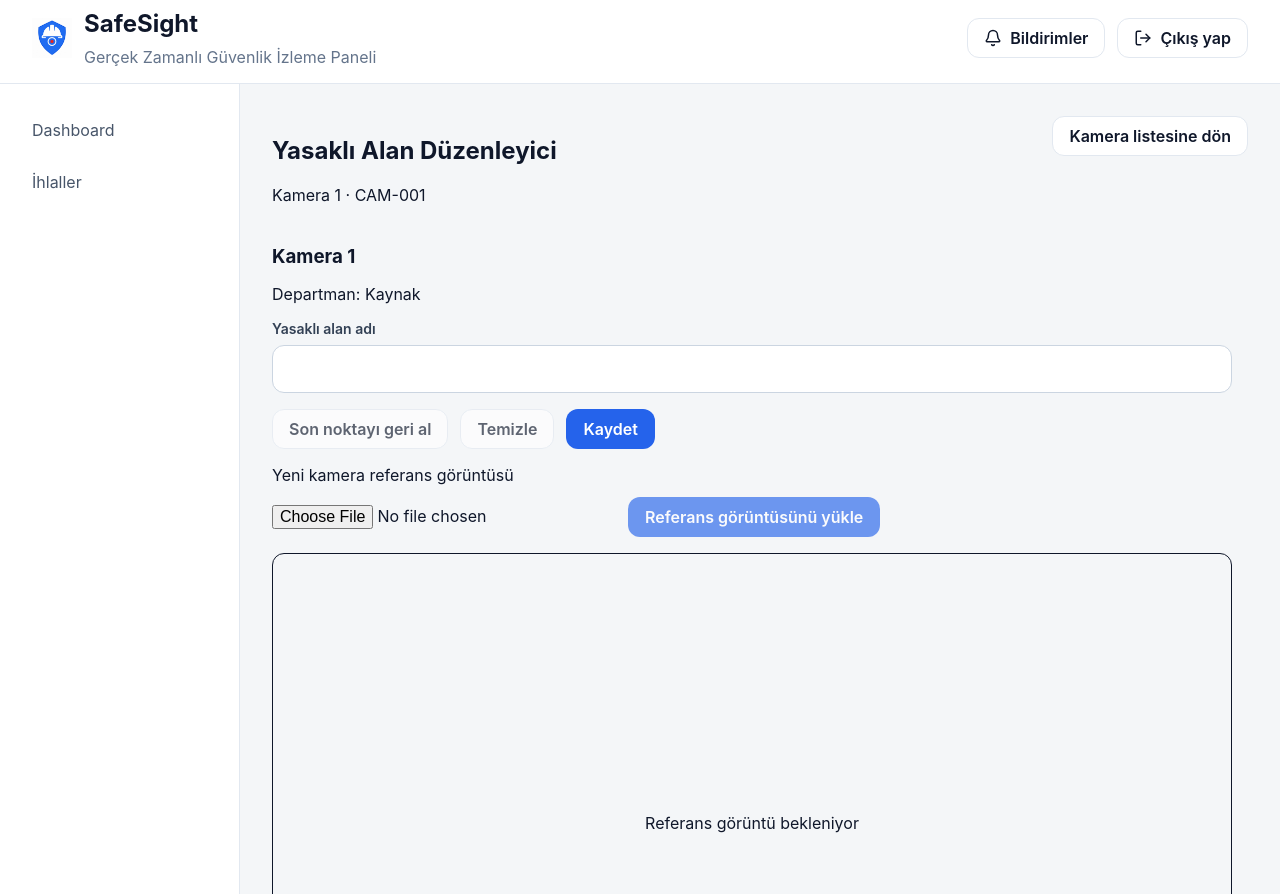
RestrictedZoneEditorPage › requires at least three polygon points before saving
Type "Kaynak hattı" into the field labelled "Yasaklı alan adı" at (752, 369), box [272, 345, 1232, 393]
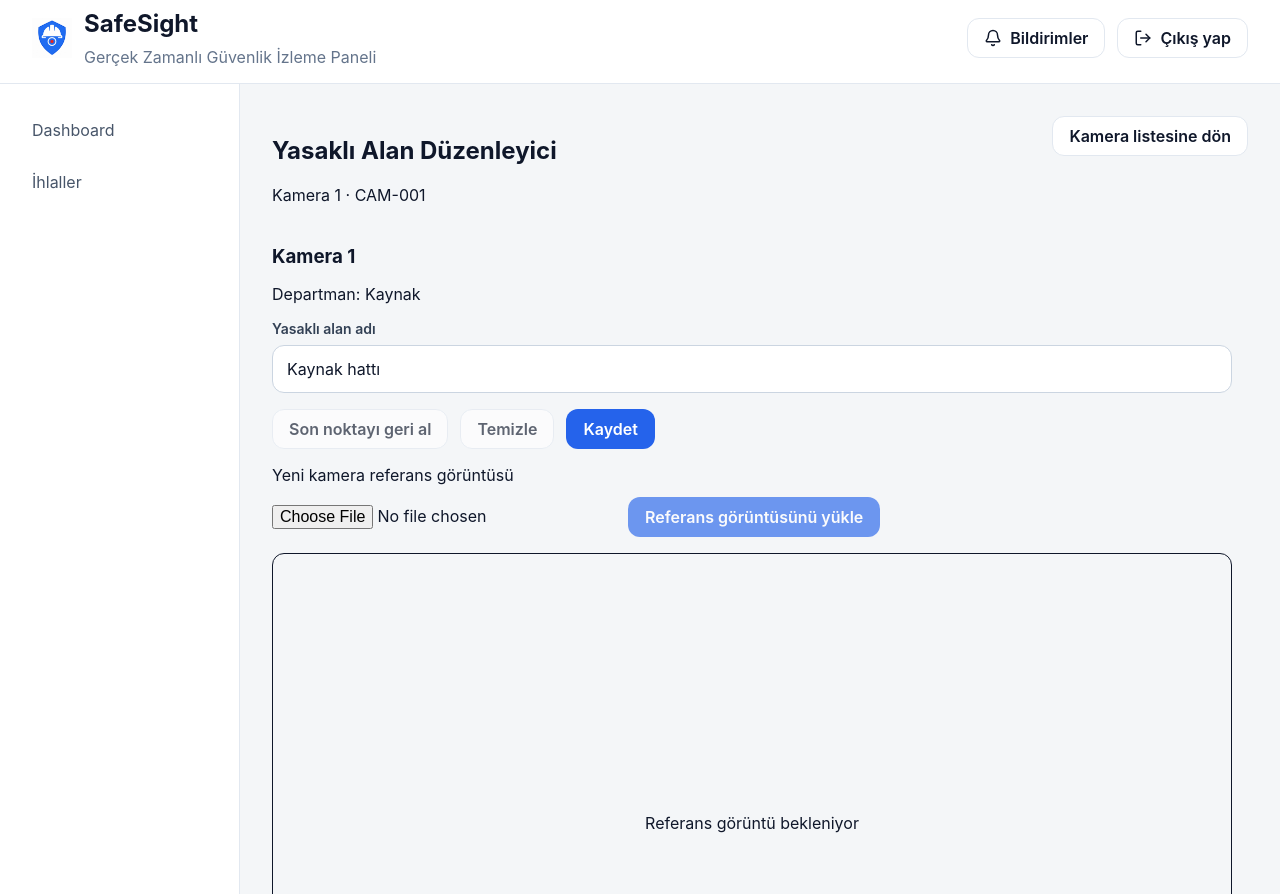
Click the button "Kaydet" at (611, 429), box [566, 409, 655, 449]
(page scrolled)
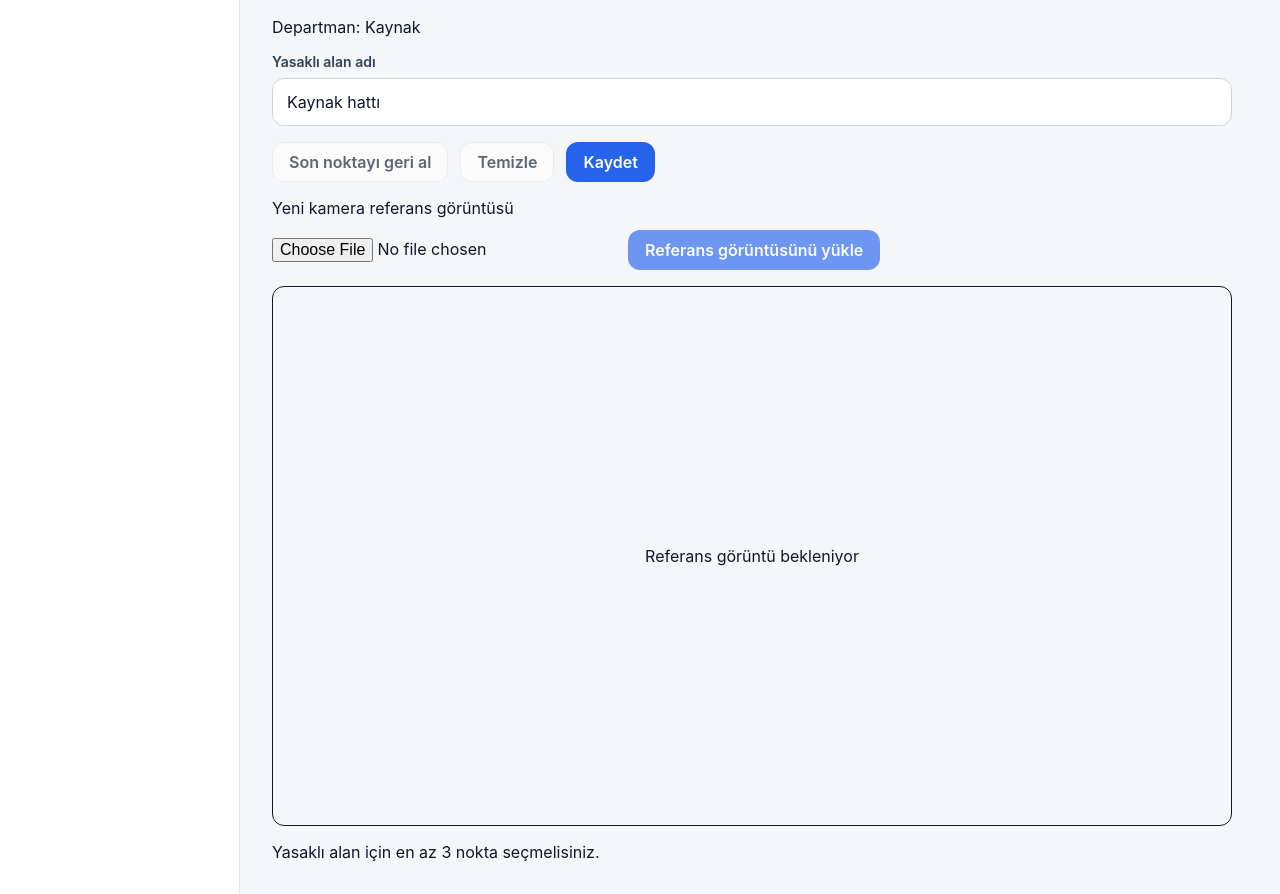
Expected: the message reads "Yasaklı alan için en az 3 nokta seçmelisiniz.", [272, 842, 600, 862]
